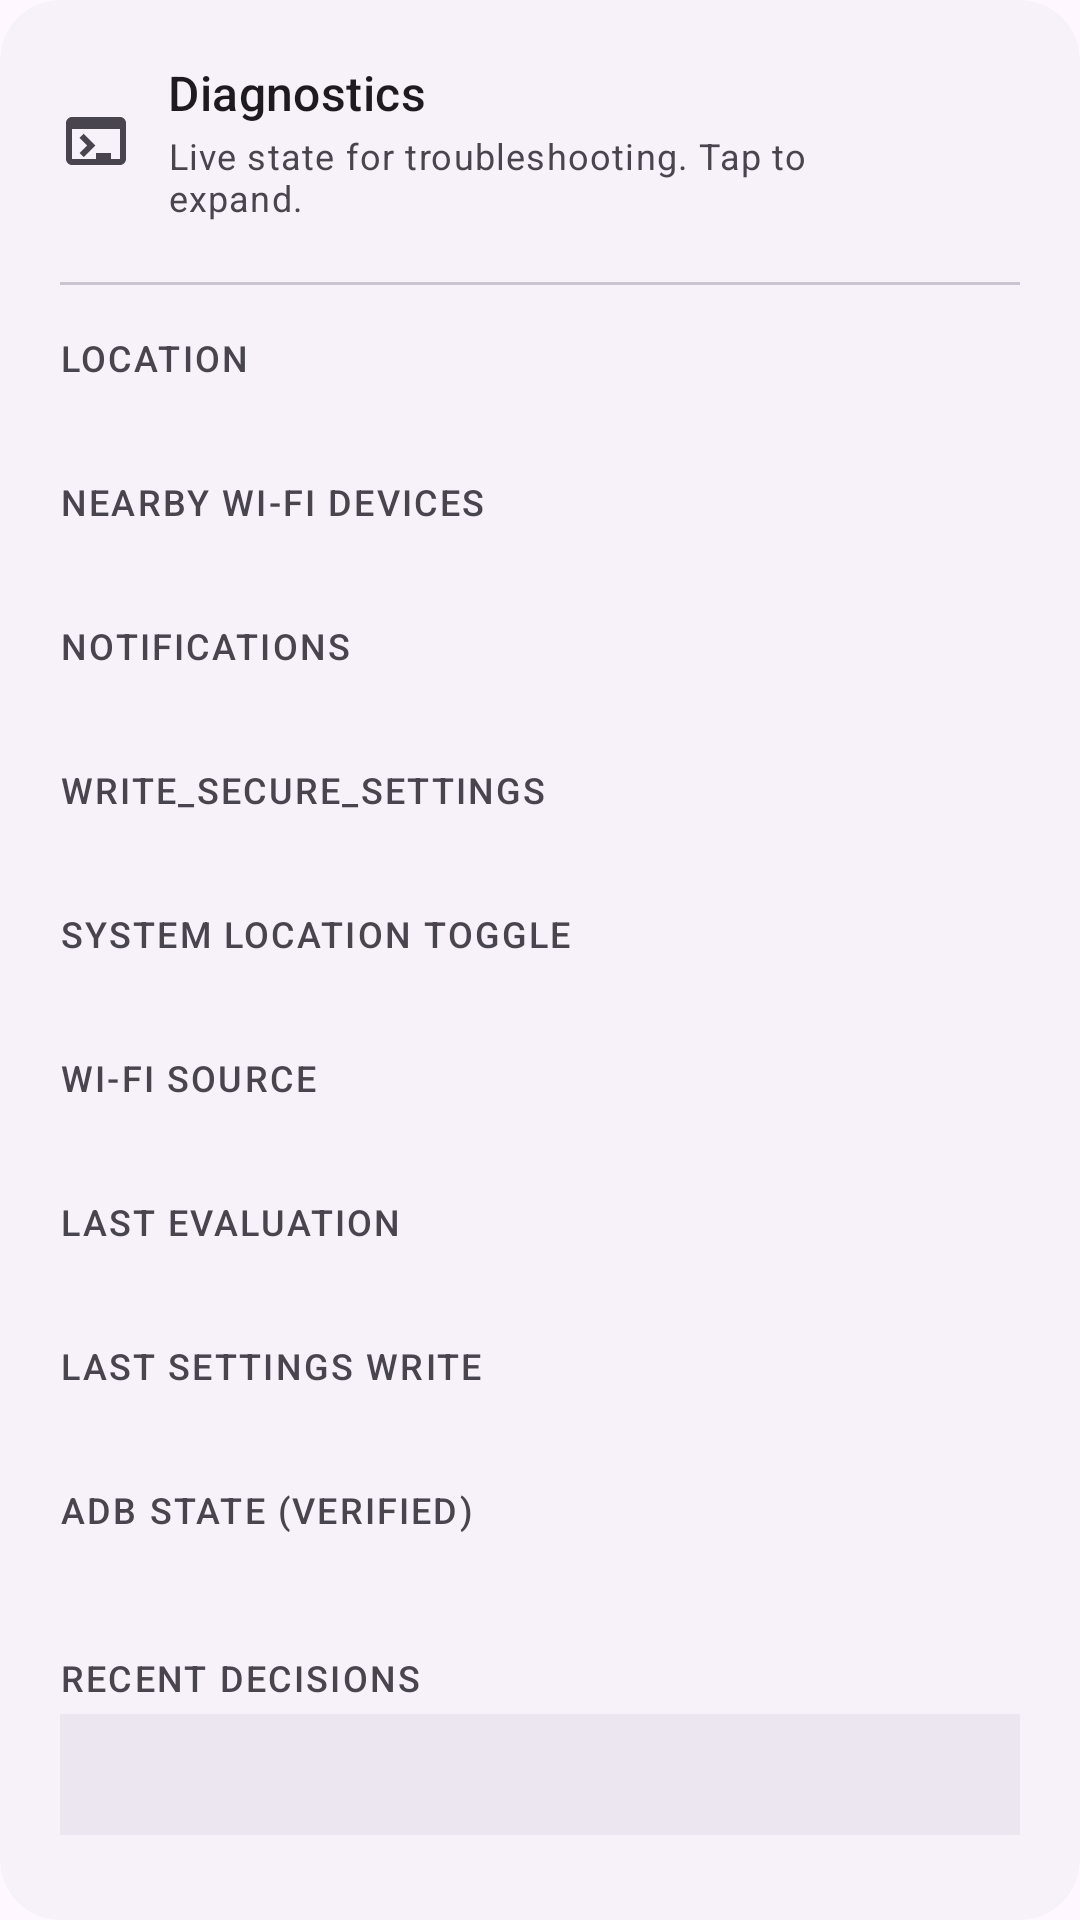

Screen size 1080*1920. Icon name, then its box in pixels as (x1, y1, x2, y2):
terminal: (66, 117, 126, 165)
